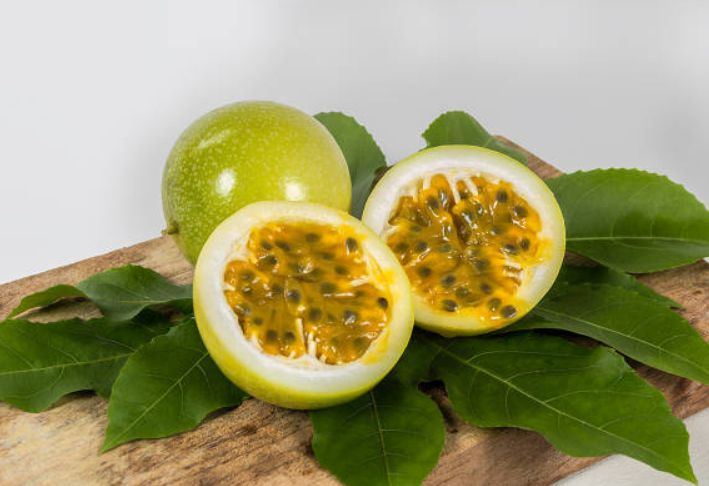maracuya: (159, 97, 358, 284)
